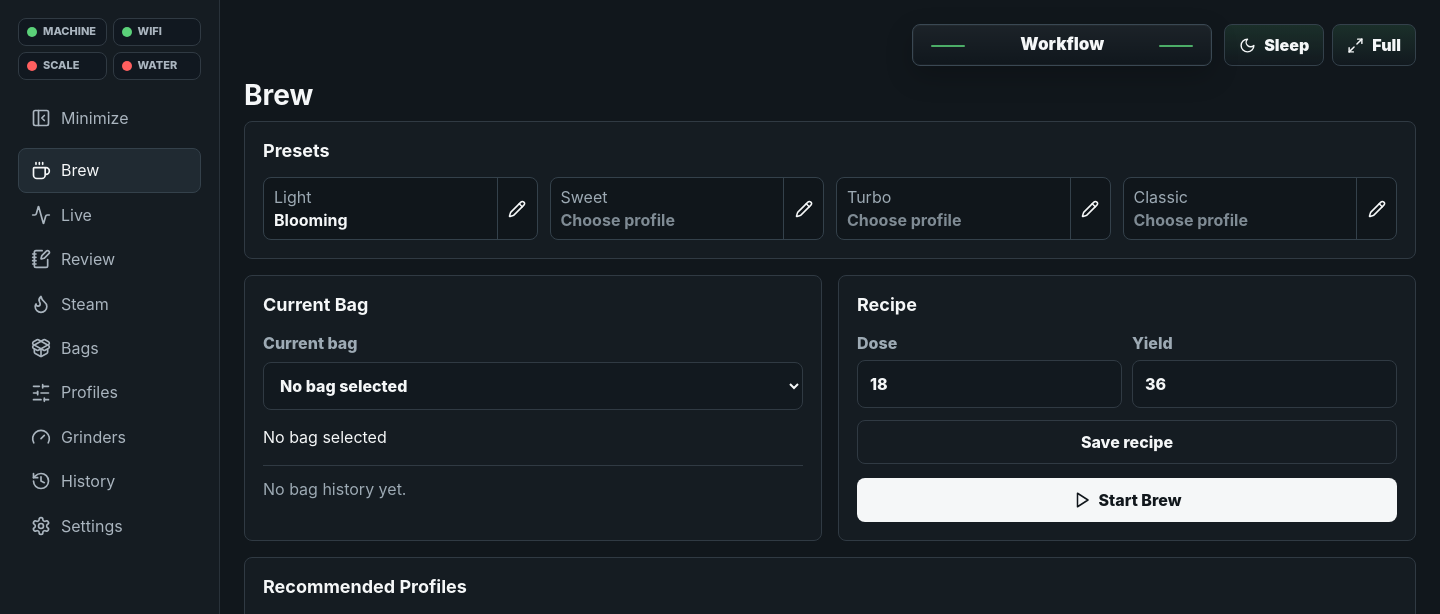
Test case: App shell › tries to force scale connection when the disconnected Scale status is pressed
Click the button "Scale" at (62, 66), box [18,52,106,80]
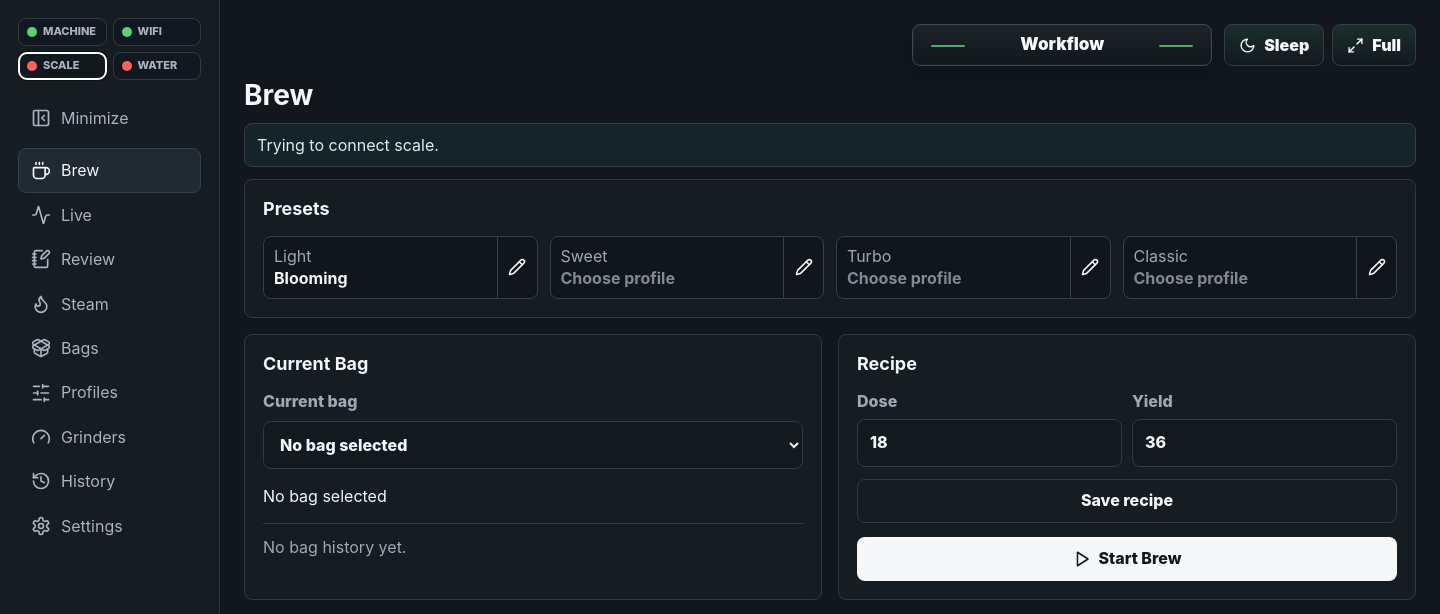
Now the message reads "Trying to connect scale.", box [257,135,439,155]
